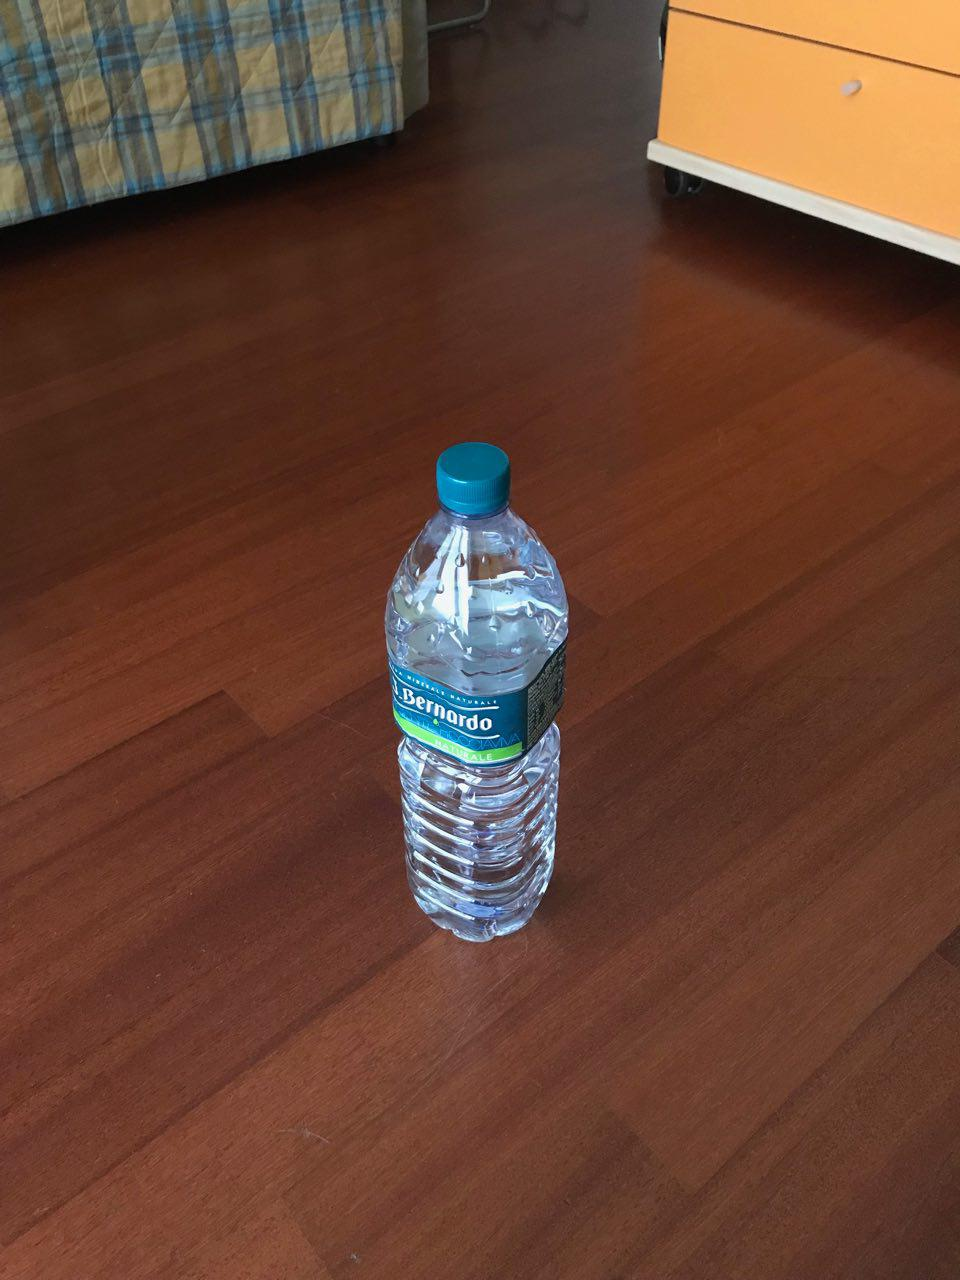san_bernardo: (383, 440, 570, 944)
